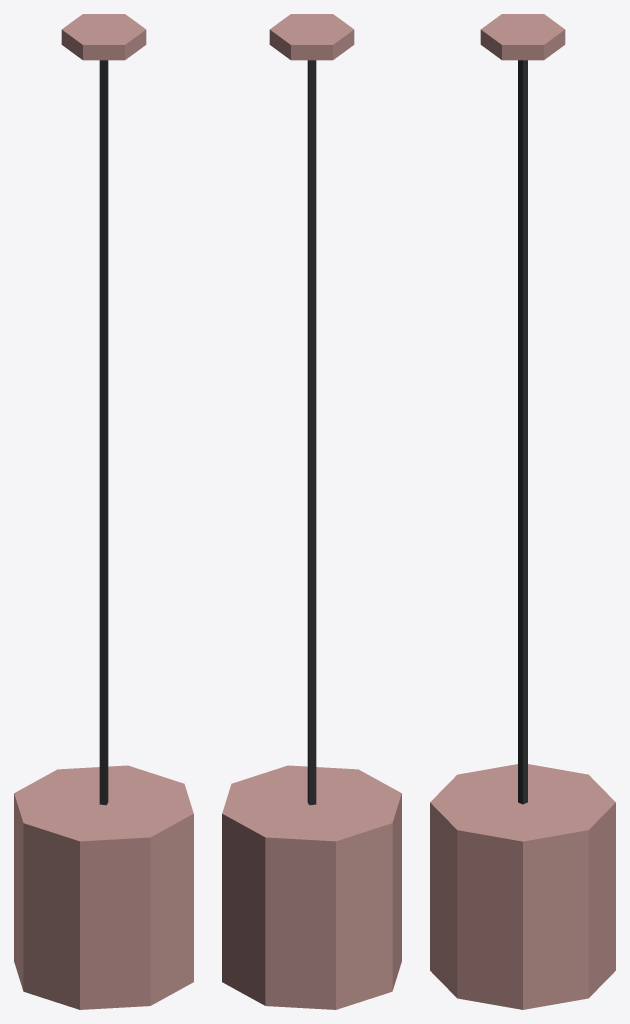
The model's file is pendant_lamp.glb.
The picture shows the model from 3 angles, left to right: view 1: azimuth 30°, elevation 25°; view 2: azimuth 150°, elevation 25°; view 3: azimuth 270°, elevation 25°; orthographic projection.
Parts seen in each view (by area): view 1: pendant_lamp; view 2: pendant_lamp; view 3: pendant_lamp.
Boxes of the visible parts, x1,y1,x2,y2 form: pendant_lamp: (14, 14, 193, 1009); pendant_lamp: (222, 14, 401, 1009); pendant_lamp: (430, 14, 615, 1009).
Size of the model in its own units: 0.22 by 1.23 by 0.22.
